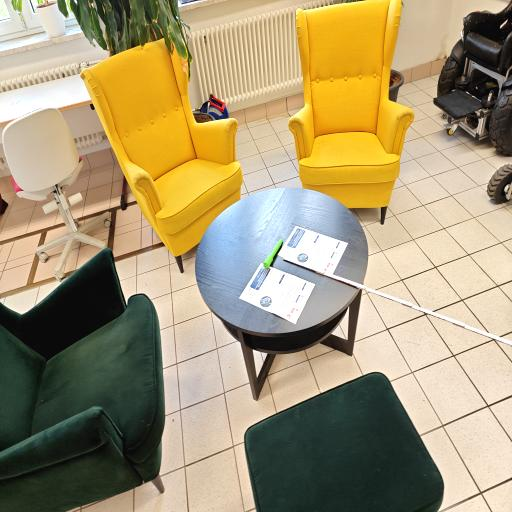Probe-Detection: (264, 238, 283, 268)
